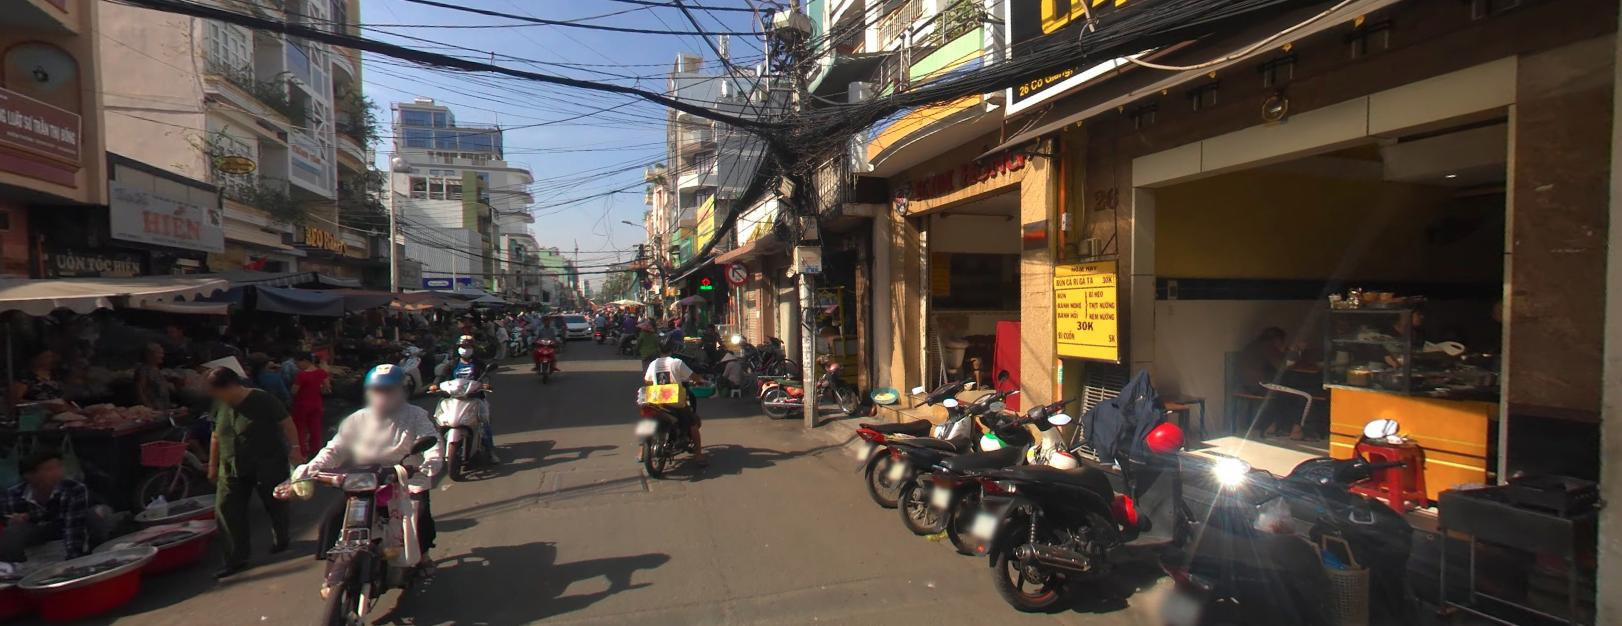Cam dung va do: (643, 280, 651, 288)
Cam re: (726, 259, 749, 284)
